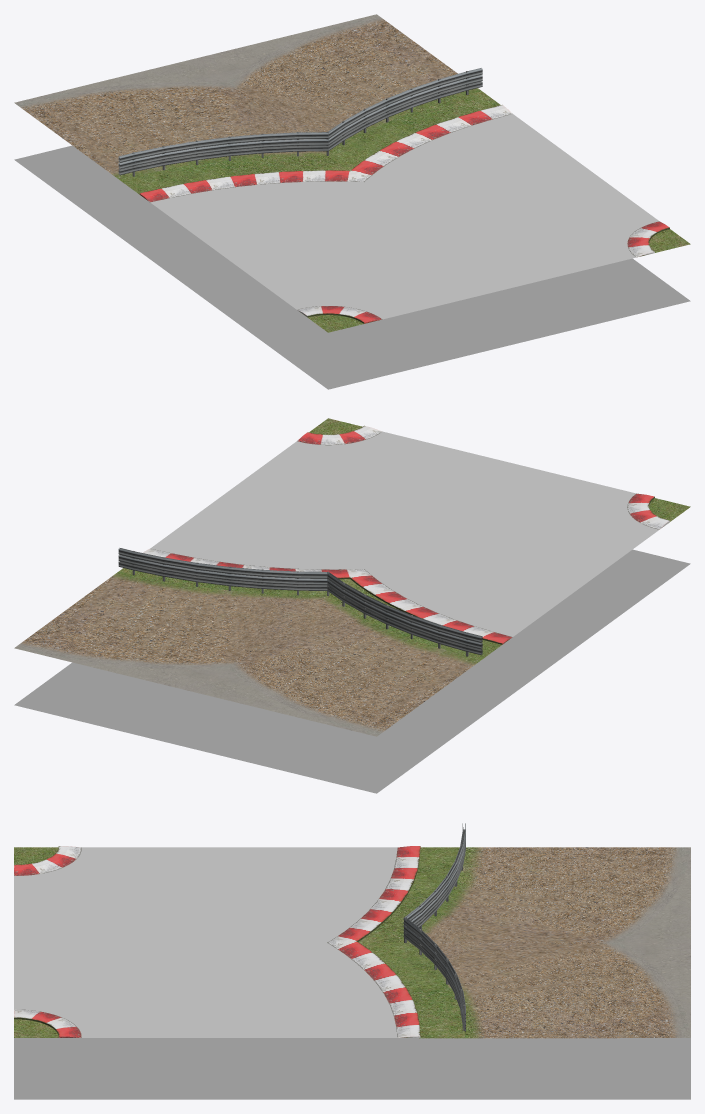
The model's file is Track_Split_B_Gravel.fbx.
3 views of the same model, one above another, from view 1: azimuth 30°, elevation 25°; view 2: azimuth 150°, elevation 25°; view 3: azimuth 270°, elevation 25° (orthographic). The views are drawn at different scales.
Parts seen in each view (by area): view 1: Road, Snap_Plane_Invisible, Gravel, Grass, Rail, Curb_C, Concrete, Curb_A, Curb_B; view 2: Road, Gravel, Snap_Plane_Invisible, Rail, Concrete, Grass, Curb_C, Curb_A, Curb_B; view 3: Road, Snap_Plane_Invisible, Gravel, Grass, Curb_C, Concrete, Rail, Curb_B, Curb_A.
Part boxes in pixels (x1,y1,x2,y2): Road: (150,114,658,319); Snap_Plane_Invisible: (14,145,690,389); Gravel: (14,14,481,179); Grass: (119,91,690,332); Rail: (118,68,482,176); Curb_C: (139,105,512,202); Concrete: (18,15,373,101); Curb_A: (627,221,669,257); Curb_B: (297,306,382,323); Road: (150,431,659,636); Gravel: (14,571,480,736); Snap_Plane_Invisible: (14,549,690,793); Rail: (118,548,482,656); Concrete: (19,649,371,735); Grass: (119,418,690,659); Curb_C: (143,548,512,644); Curb_A: (297,425,382,445); Curb_B: (627,493,669,529); Road: (14,847,397,1037); Snap_Plane_Invisible: (14,1038,690,1099); Gravel: (404,847,690,1038); Grass: (14,847,464,1038); Curb_C: (327,846,420,1037); Concrete: (620,848,690,1036); Rail: (403,823,465,1032); Curb_B: (14,846,81,875); Curb_A: (14,1009,81,1037).
Size of the model in its own units: 20.01 by 4.24 by 30.
